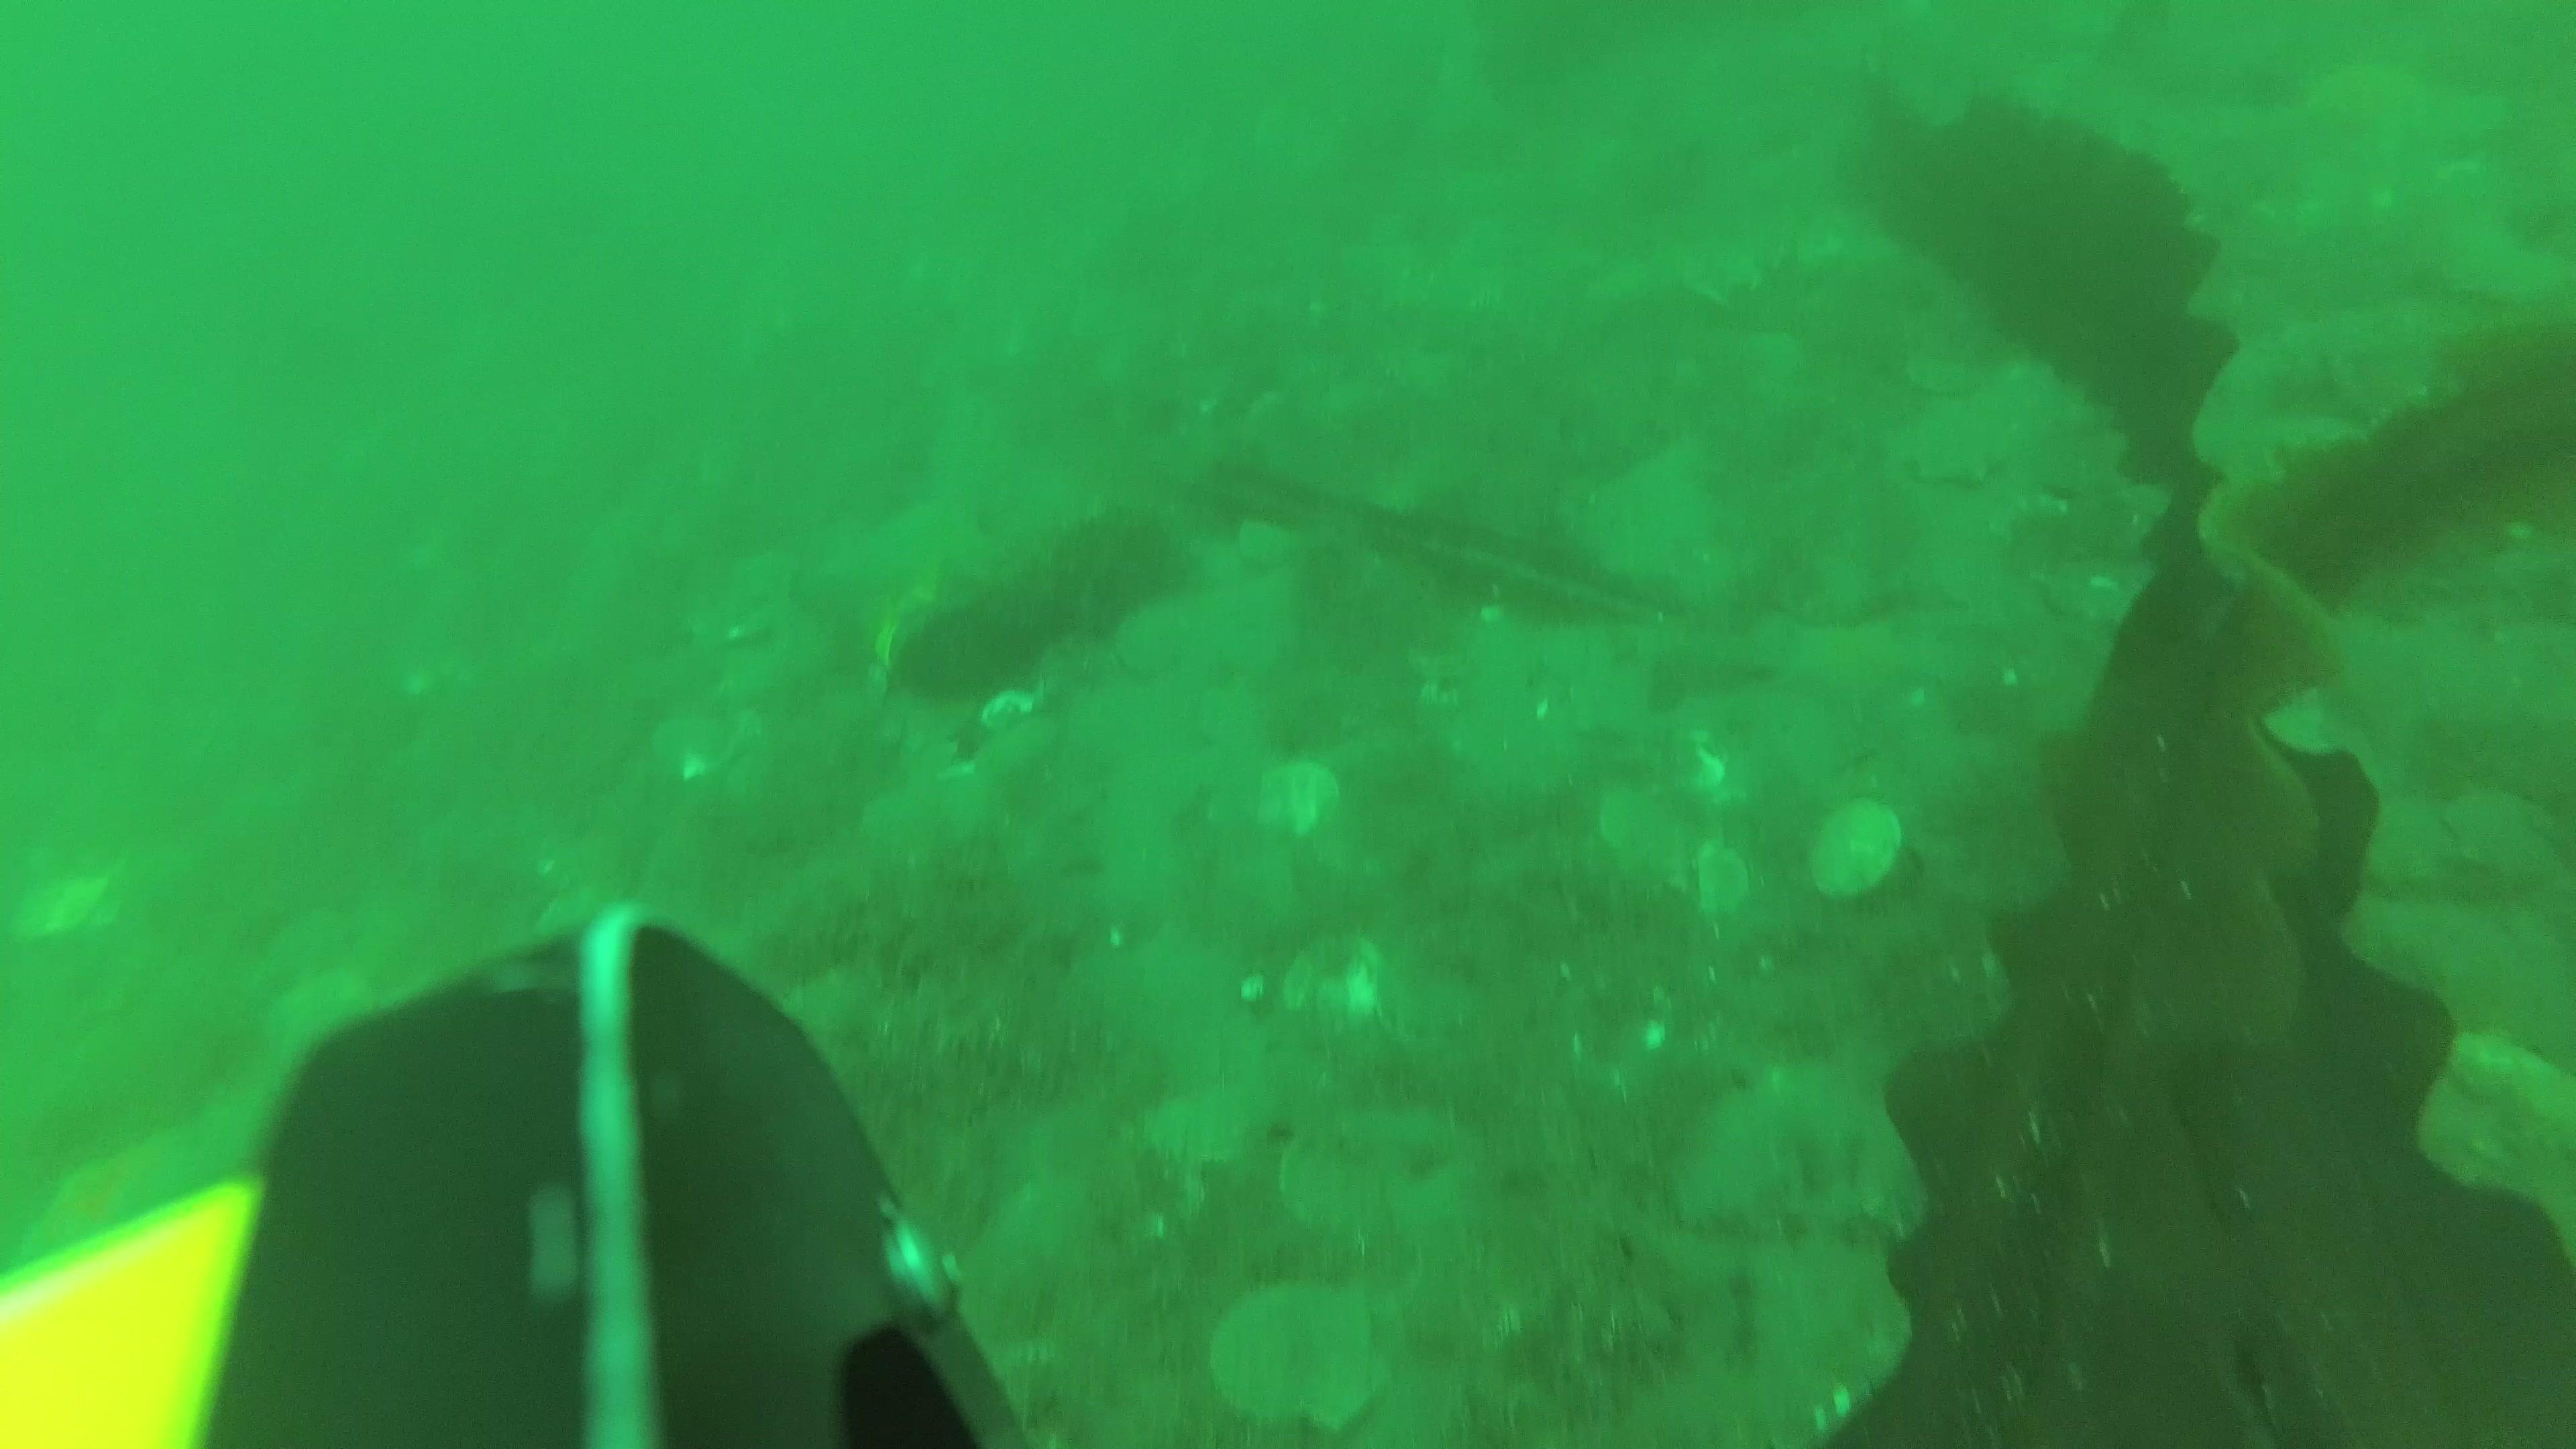holothurian: (2445, 1024, 2576, 1166)
scallop: (1215, 1283, 1396, 1433), (879, 763, 1008, 853), (1286, 929, 1389, 1035), (1905, 400, 2024, 490), (1813, 794, 1914, 899), (2442, 791, 2542, 883), (1253, 759, 1352, 839), (1115, 600, 1191, 679), (978, 711, 1054, 773)
starfish: (30, 1122, 237, 1258)
